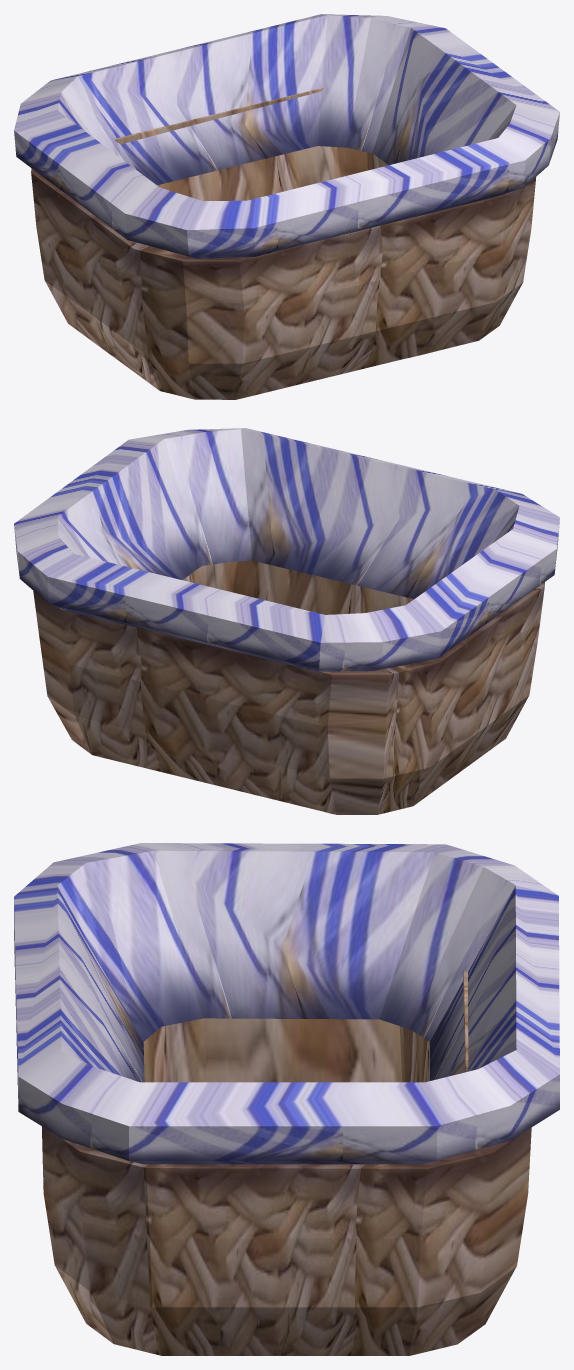
The model's file is basket.obj.
3 views of the same model, one above another, from view 1: azimuth 30°, elevation 25°; view 2: azimuth 150°, elevation 25°; view 3: azimuth 270°, elevation 25° (orthographic). The views are drawn at different scales.
Visible parts, largest first — view 1: pPipe1, pSphere1; view 2: pPipe1, pSphere1; view 3: pPipe1, pSphere1.
Part boxes in pixels (bbox=[...]): pPipe1: bbox=[14, 14, 559, 258]; pSphere1: bbox=[31, 88, 536, 399]; pPipe1: bbox=[14, 428, 559, 671]; pSphere1: bbox=[33, 560, 544, 814]; pPipe1: bbox=[14, 843, 559, 1164]; pSphere1: bbox=[42, 970, 531, 1355].
Bounding box in the file's own units: 16.47 × 9.08 × 13.41.
1 material, 1 textured.
